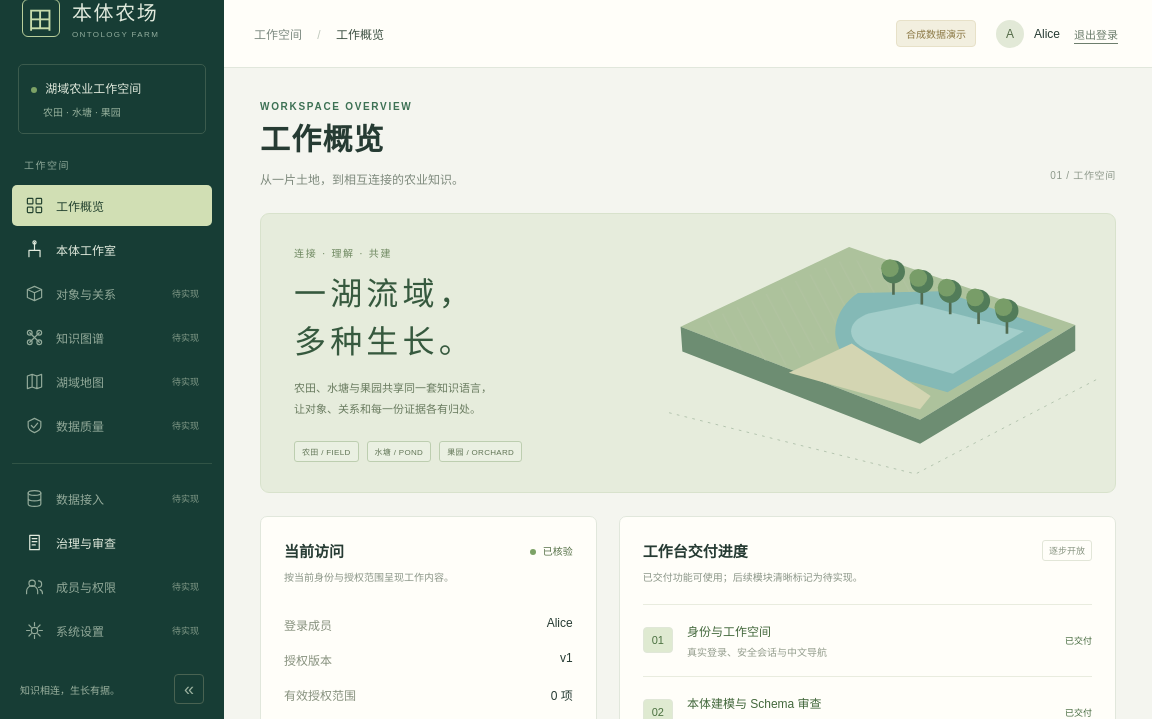
removes protected local state when reconciliation confirms authentication failure
(page scrolled)
Click the button named "折叠导航" at coordinates (189, 689), box [174, 674, 204, 704]
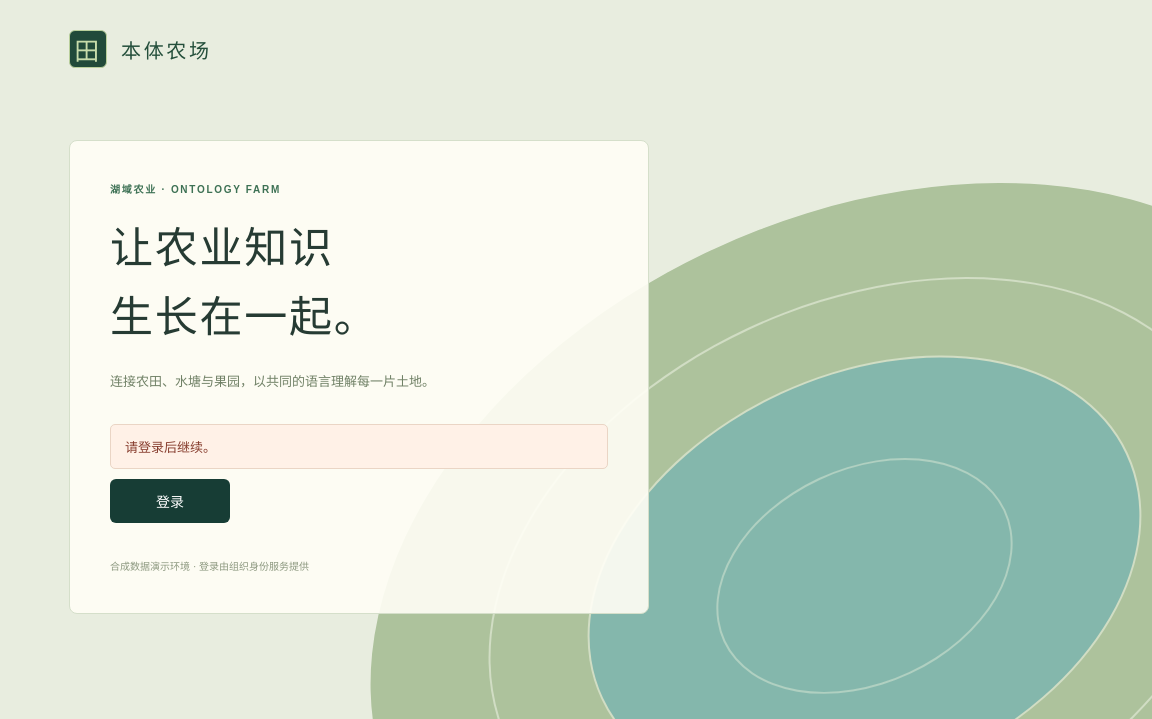
Expected: the button "登录" is shown, [110, 479, 230, 523]
Now the navigation bar "主导航" is gone
